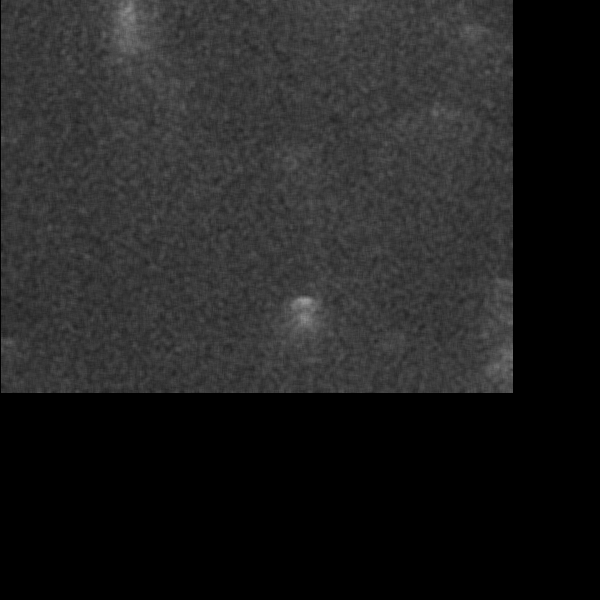spark: (17, 198, 56, 243), (189, 370, 212, 384)
